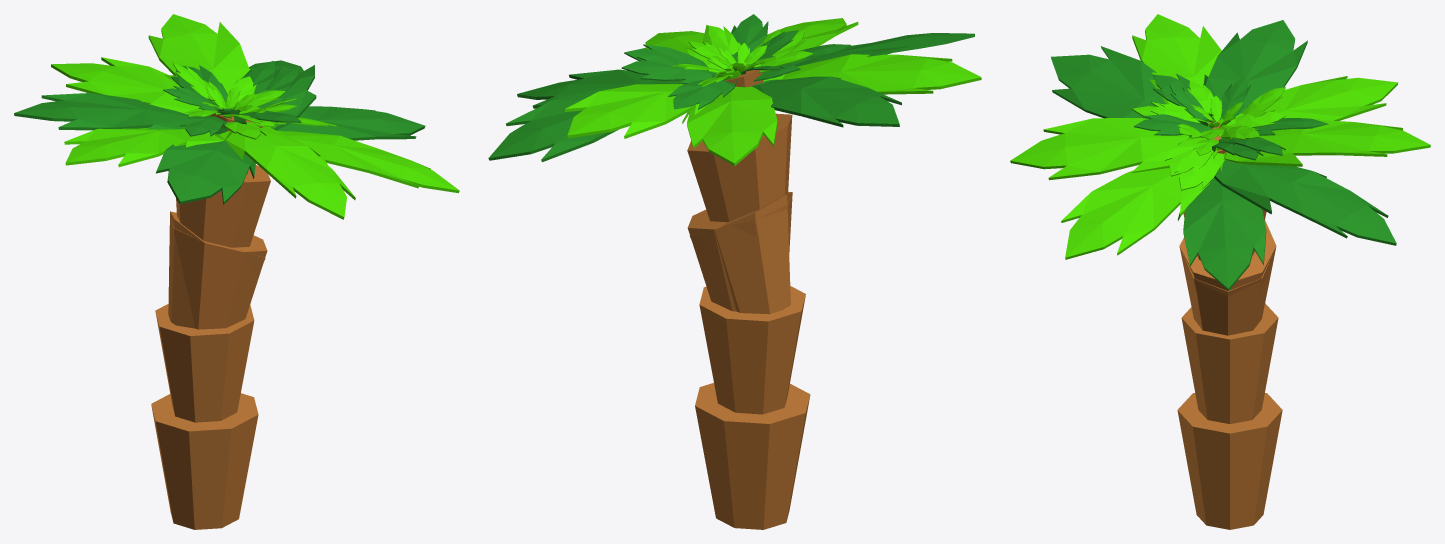
File: Palmera sola.fbx
3 views of the same model, side by side, from view 1: azimuth 30°, elevation 25°; view 2: azimuth 150°, elevation 25°; view 3: azimuth 270°, elevation 25° (orthographic). The views are drawn at different scales.
Parts seen in each view (by area): view 1: palmera.001; view 2: palmera.001; view 3: palmera.001.
Part boxes in pixels (x1=…): palmera.001: x1=14, y1=14, x2=459, y2=529; palmera.001: x1=488, y1=14, x2=981, y2=529; palmera.001: x1=1010, y1=14, x2=1430, y2=529.
Bounding box in the file's own units: 726 × 758 × 678.
